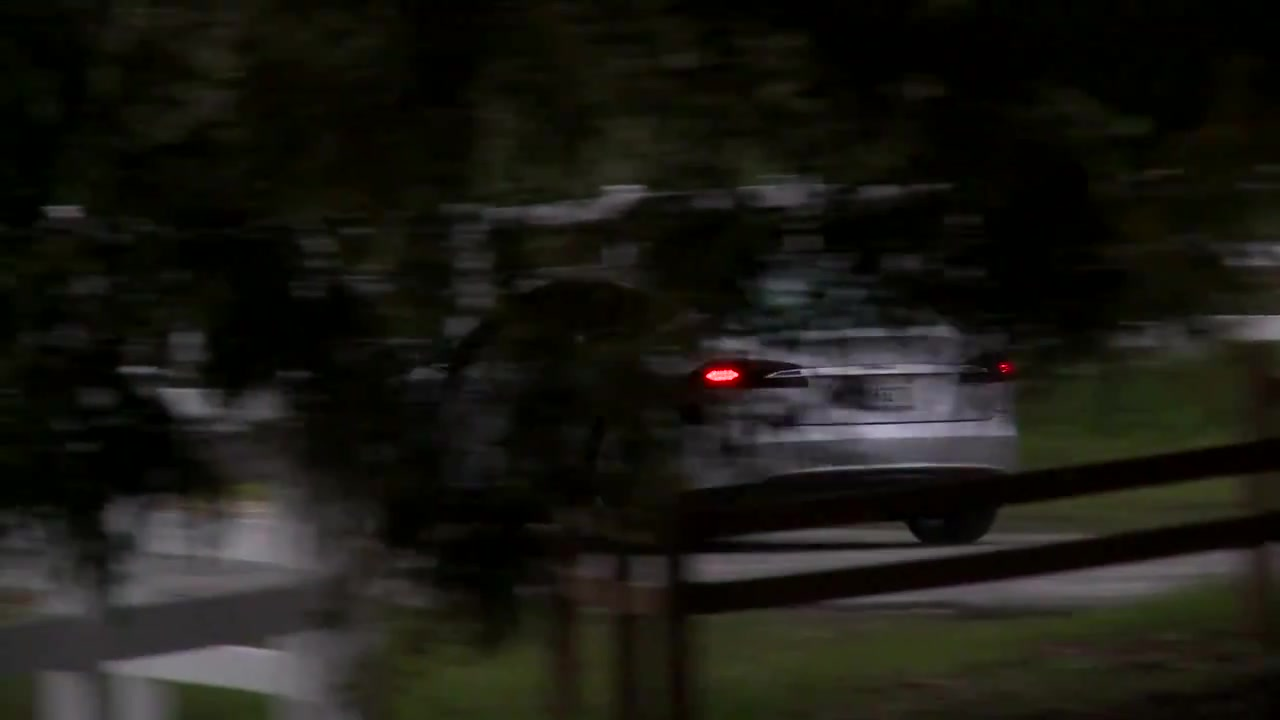car: (390, 252, 1037, 560)
